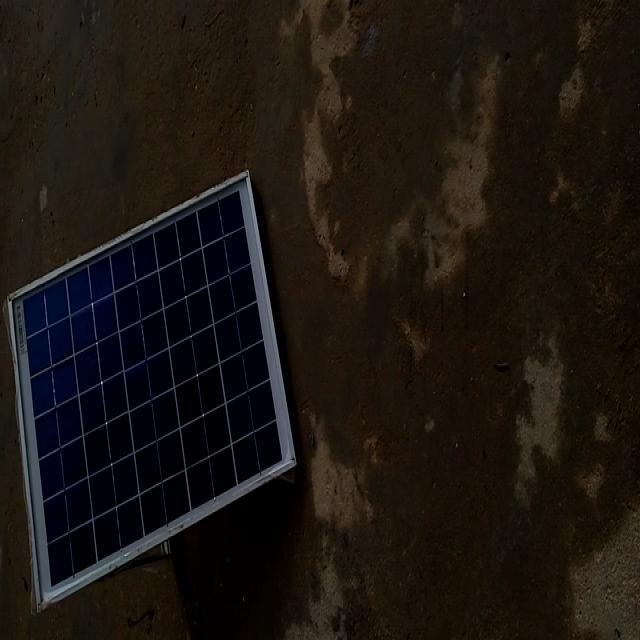Normal Solar Panel: (9, 171, 296, 609)
